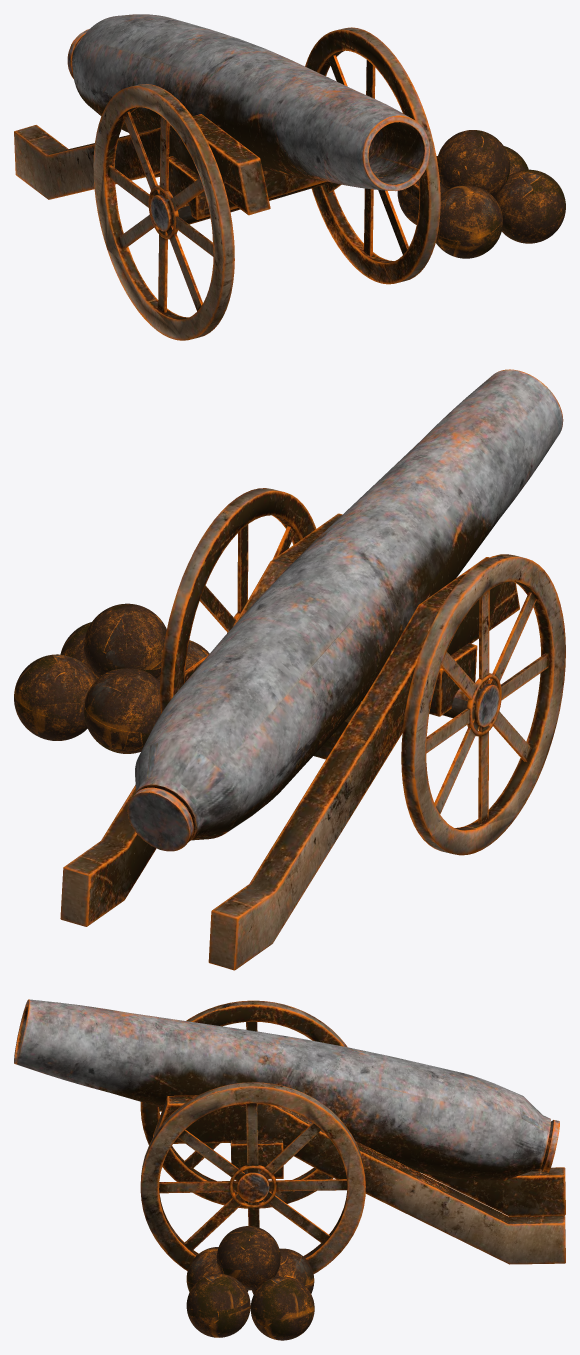
3 views of the same model, one above another, from view 1: azimuth 30°, elevation 25°; view 2: azimuth 150°, elevation 25°; view 3: azimuth 270°, elevation 25° (orthographic). The views are drawn at different scales.
Visible parts, largest first — view 1: Cube.005, Cube_012; view 2: Cube.005, Cube_012; view 3: Cube.005, Cube_012.
Boxes of the visible parts, x1,y1,x2,y2 form: Cube.005: [14, 14, 440, 340]; Cube_012: [397, 130, 565, 258]; Cube.005: [60, 369, 565, 970]; Cube_012: [14, 603, 209, 753]; Cube.005: [14, 999, 565, 1290]; Cube_012: [186, 1226, 314, 1340].
Size of the model in its own units: 3.39 by 2.39 by 4.87.
Materials: 2 (2 with a texture image).
